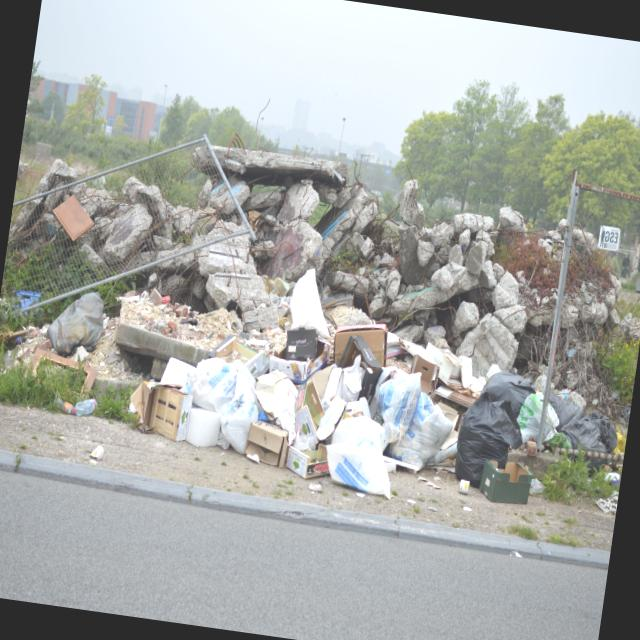garbage: (58, 238, 612, 529)
